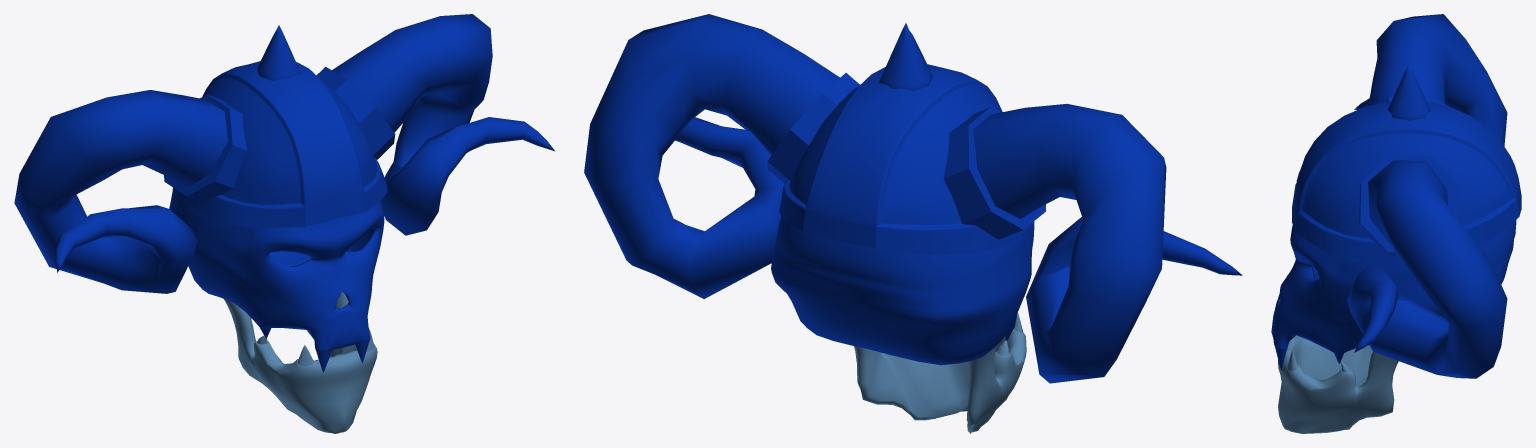
File: enemy_3.fbx
3 views of the same model, side by side, from view 1: azimuth 30°, elevation 25°; view 2: azimuth 150°, elevation 25°; view 3: azimuth 270°, elevation 25° (orthographic). The views are drawn at different scales.
Parts seen in each view (by area): view 1: enemy_3_top, enemy_3_jaw; view 2: enemy_3_top, enemy_3_jaw; view 3: enemy_3_top, enemy_3_jaw.
Part boxes in pixels (x1,y1,x2,y2): enemy_3_top: (14, 14, 554, 372); enemy_3_jaw: (224, 291, 377, 433); enemy_3_top: (584, 14, 1242, 383); enemy_3_jaw: (854, 312, 1026, 433); enemy_3_top: (1271, 14, 1521, 378); enemy_3_jaw: (1278, 335, 1398, 433).
Bounding box in the file's own units: 222 × 155 × 96.31.
